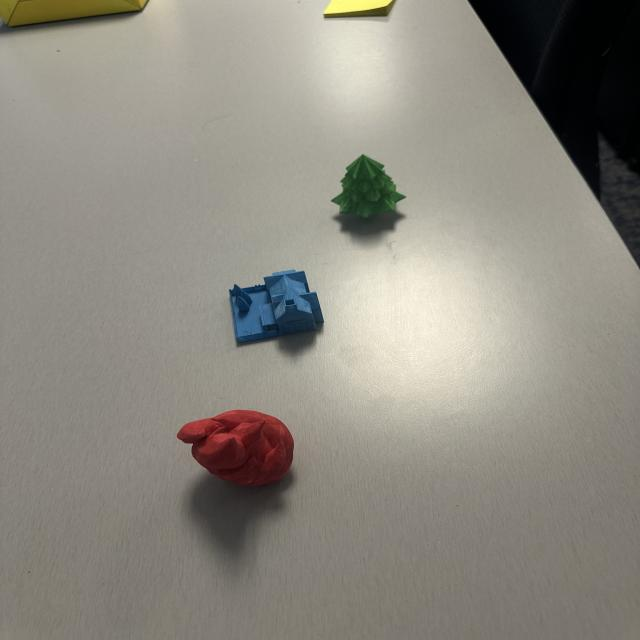fire: (175, 408, 295, 488)
house: (225, 267, 326, 345)
tree: (329, 152, 407, 220)
